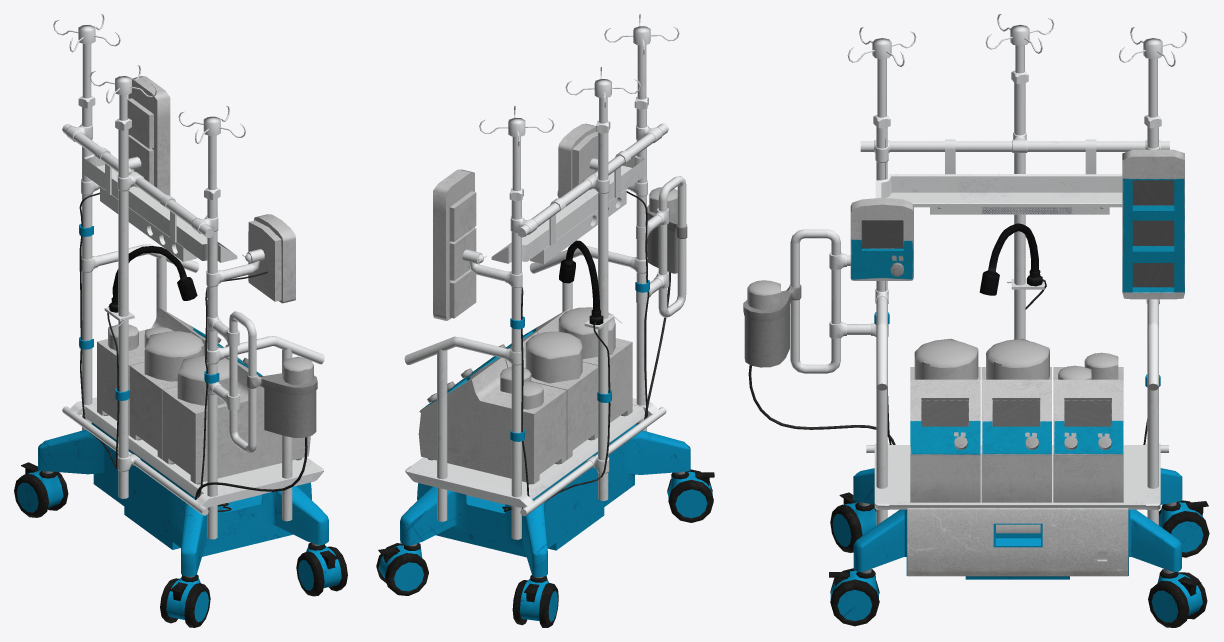
Rendered from hlm.fbx.
3 views of the same model, side by side, from view 1: azimuth 30°, elevation 25°; view 2: azimuth 150°, elevation 25°; view 3: azimuth 270°, elevation 25° (orthographic). The views are drawn at different scales.
Parts seen in each view (by area): view 1: Structure, Machines; view 2: Structure, Machines; view 3: Structure, Machines.
Part boxes in pixels (x1,y1,x2,y2): Structure: [14, 14, 347, 627]; Machines: [97, 76, 317, 483]; Structure: [376, 14, 714, 627]; Machines: [418, 123, 687, 483]; Structure: [748, 14, 1209, 627]; Machines: [743, 149, 1184, 502].
Bounding box in the file's own units: 72.94 × 181 × 145.
